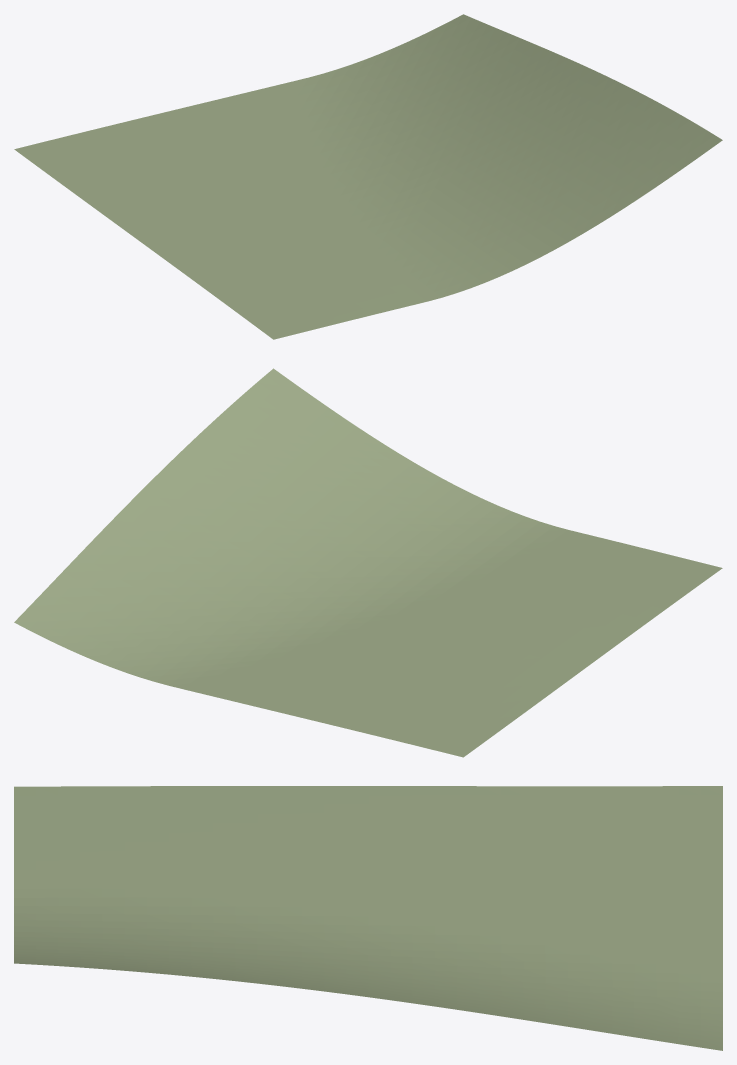
The model's file is desert-23-19.glb.
3 renders of one model, top to bottom at view 1: azimuth 30°, elevation 25°; view 2: azimuth 150°, elevation 25°; view 3: azimuth 270°, elevation 25°, orthographic. The views are drawn at different scales.
Visible parts, largest first — view 1: desert-23-19; view 2: desert-23-19; view 3: desert-23-19.
Boxes of the visible parts, box(x1,y1,x2,y2) form: desert-23-19: box(14, 14, 722, 339); desert-23-19: box(14, 368, 722, 757); desert-23-19: box(14, 786, 722, 1050).
Bounding box in the file's own units: 512 × 97.88 × 512.
